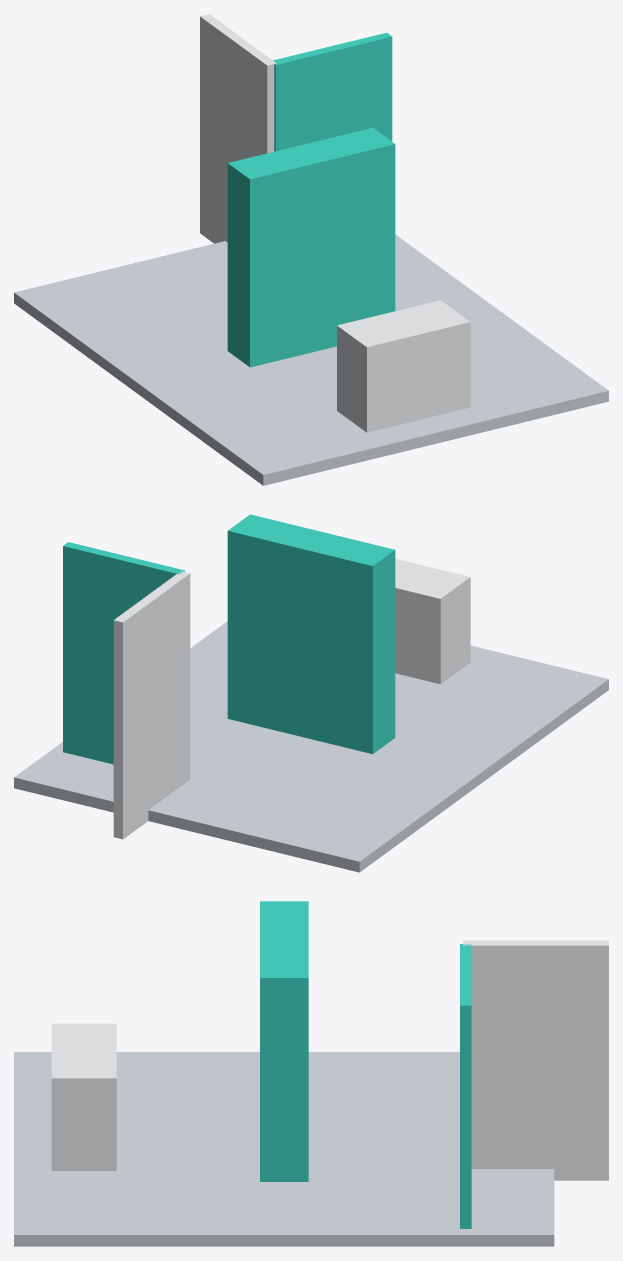
3 views of the same model, one above another, from view 1: azimuth 30°, elevation 25°; view 2: azimuth 150°, elevation 25°; view 3: azimuth 270°, elevation 25° (orthographic). The views are drawn at different scales.
Visible parts, largest first — view 1: Exhibition Booth Concept; view 2: Exhibition Booth Concept; view 3: Exhibition Booth Concept.
Boxes of the visible parts, x1,y1,x2,y2 form: Exhibition Booth Concept: (14,14,608,485); Exhibition Booth Concept: (14,514,608,872); Exhibition Booth Concept: (14,901,608,1246).
Bounding box in the file's own units: 4 × 2.4 × 5.51.
